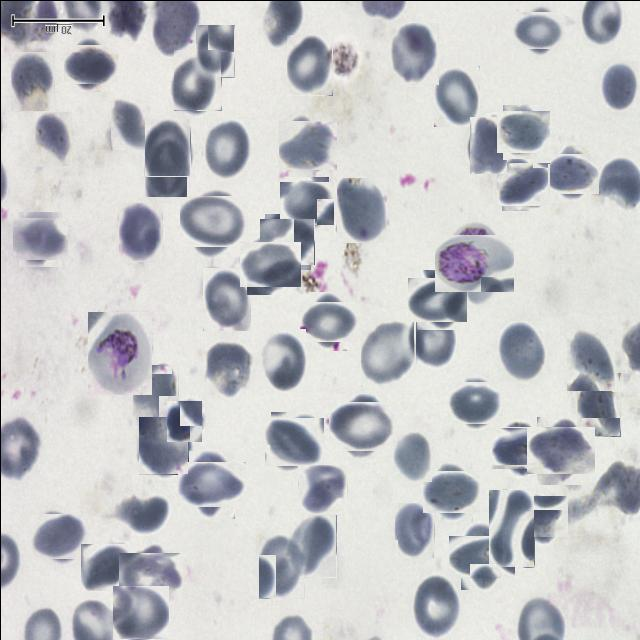difficult: (87, 311, 151, 394), (439, 228, 507, 297)
red blood cell: (184, 190, 244, 250), (488, 489, 534, 567), (360, 320, 414, 386), (332, 397, 390, 455), (531, 421, 589, 479), (336, 177, 386, 242), (182, 456, 240, 512), (286, 514, 336, 577), (122, 548, 178, 604), (112, 584, 168, 640), (257, 328, 305, 392), (203, 337, 253, 398), (389, 22, 438, 84), (202, 267, 250, 330), (412, 574, 459, 638), (408, 303, 454, 368), (566, 328, 614, 390), (258, 534, 304, 598), (497, 320, 545, 381), (173, 49, 221, 110), (267, 414, 321, 468), (454, 528, 508, 582), (280, 118, 334, 172), (138, 416, 188, 474), (242, 237, 296, 290), (204, 118, 250, 180), (132, 364, 178, 426), (576, 372, 620, 436), (433, 65, 479, 126), (286, 34, 332, 95), (113, 490, 172, 537), (32, 510, 84, 562), (411, 273, 463, 325), (144, 118, 190, 176), (118, 202, 162, 262), (10, 51, 54, 111), (262, 215, 312, 266), (426, 466, 476, 516), (494, 422, 544, 472), (450, 378, 500, 427), (303, 296, 353, 345), (298, 464, 347, 514), (80, 542, 131, 590), (282, 178, 331, 227), (15, 214, 64, 263), (546, 148, 594, 198), (498, 158, 546, 208), (144, 139, 186, 196), (499, 107, 547, 155), (66, 41, 114, 88), (394, 502, 434, 558), (516, 492, 564, 538), (469, 114, 506, 172), (32, 111, 71, 166), (195, 24, 234, 77), (392, 431, 432, 482), (516, 7, 561, 52), (598, 60, 637, 111), (110, 96, 146, 149), (165, 400, 202, 442)
